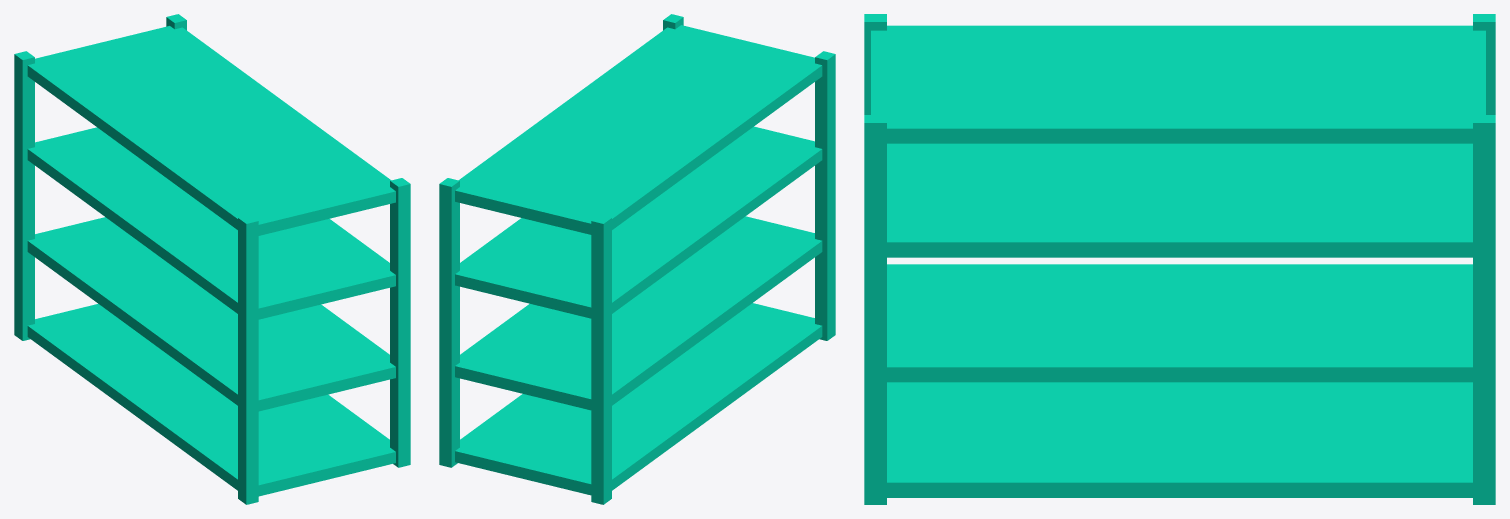
File: PratCozinha.fbx
The picture shows the model from 3 angles, left to right: view 1: azimuth 30°, elevation 25°; view 2: azimuth 150°, elevation 25°; view 3: azimuth 270°, elevation 25°; orthographic projection. The views are drawn at different scales.
Visible parts, largest first — view 1: Cube.004; view 2: Cube.004; view 3: Cube.004.
Part boxes in pixels (x1,y1,x2,y2): Cube.004: [14, 14, 410, 504]; Cube.004: [439, 14, 835, 504]; Cube.004: [864, 14, 1495, 504].
Size of the model in its own units: 1139 by 1862 by 2788.
